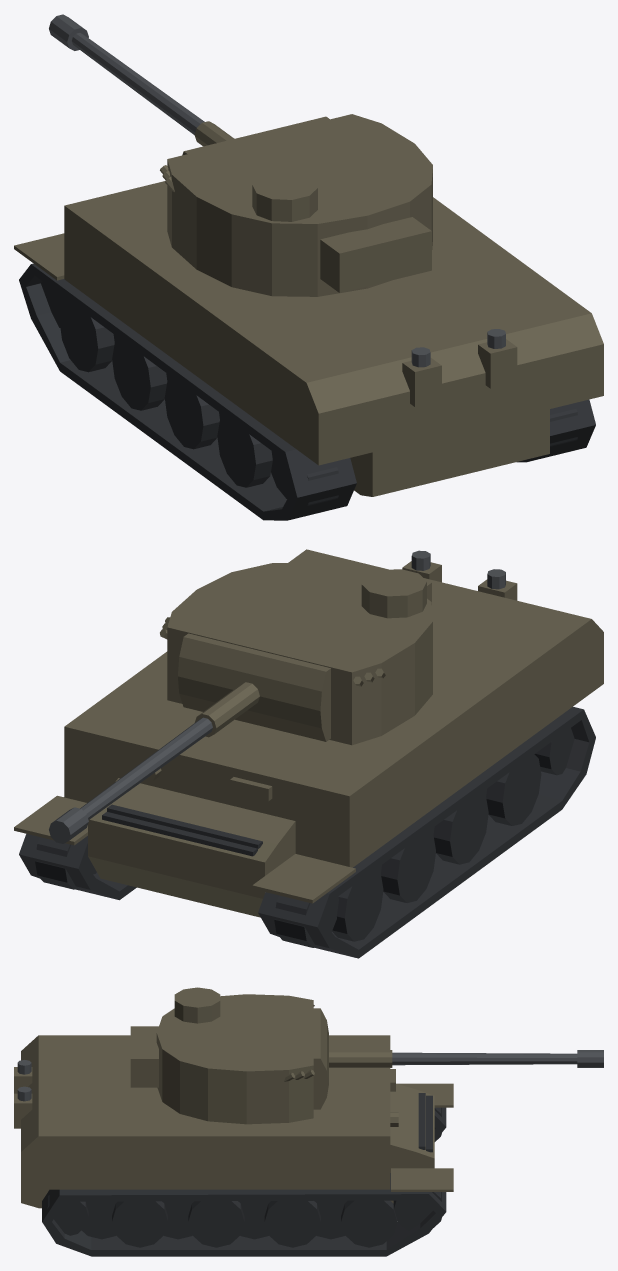
The model's file is tiger.glb.
3 renders of one model, top to bottom at view 1: azimuth 30°, elevation 25°; view 2: azimuth 150°, elevation 25°; view 3: azimuth 270°, elevation 25°, orthographic. The views are drawn at different scales.
Visible parts, largest first — view 1: TIG_Hull, TIG_Turret, TIG_Track_L, TIG_Bin, TIG_Cupola, TIG_Wheel_L0, TIG_Wheel_L2, TIG_Wheel_L4, TIG_Wheel_L6, TIG_Gun_Barrel, TIG_Track_R, TIG_ExhaustGuard_R (+3 smaller); view 2: TIG_Hull, TIG_Turret, TIG_Nose, TIG_Track_L, TIG_Mantlet, TIG_FenderF_L, TIG_Cupola, TIG_Wheel_L2, TIG_Wheel_L4, TIG_Wheel_L6, TIG_Track_R, TIG_Gun_Barrel (+10 smaller); view 3: TIG_Hull, TIG_Turret, TIG_Track_R, TIG_Nose, TIG_Gun_Barrel, TIG_Wheel_R0, TIG_Wheel_R2, TIG_Wheel_R4, TIG_Wheel_R6, TIG_Bin, TIG_FenderF_R, TIG_Cupola (+13 smaller).
Part boxes in pixels (x1,y1,x2,y2): TIG_Hull: (64, 181, 603, 496); TIG_Turret: (167, 114, 432, 296); TIG_Track_L: (19, 263, 356, 520); TIG_Bin: (320, 217, 431, 292); TIG_Cupola: (252, 172, 317, 221); TIG_Wheel_L0: (59, 300, 114, 372); TIG_Wheel_L2: (112, 338, 167, 410); TIG_Wheel_L4: (164, 377, 219, 449); TIG_Wheel_L6: (217, 416, 272, 487); TIG_Gun_Barrel: (72, 33, 204, 134); TIG_Track_R: (516, 399, 595, 462); TIG_ExhaustGuard_R: (478, 339, 517, 388); TIG_Hull: (64, 549, 603, 867); TIG_Turret: (167, 562, 432, 745); TIG_Nose: (88, 778, 295, 917); TIG_Track_L: (258, 707, 595, 958); TIG_Mantlet: (177, 633, 330, 741); TIG_FenderF_L: (252, 854, 355, 903); TIG_Cupola: (361, 569, 426, 618); TIG_Wheel_L2: (381, 831, 435, 902); TIG_Wheel_L4: (433, 792, 488, 864); TIG_Wheel_L6: (486, 754, 541, 825); TIG_Track_R: (19, 834, 136, 900); TIG_Gun_Barrel: (80, 717, 212, 819); TIG_Hull: (21, 1035, 390, 1208); TIG_Turret: (156, 994, 313, 1124); TIG_Track_R: (42, 1173, 446, 1256); TIG_Nose: (390, 1083, 434, 1203); TIG_Gun_Barrel: (392, 1052, 577, 1065); TIG_Wheel_R0: (341, 1200, 397, 1247); TIG_Wheel_R2: (264, 1201, 320, 1247); TIG_Wheel_R4: (188, 1201, 244, 1247); TIG_Wheel_R6: (112, 1201, 167, 1247); TIG_Bin: (130, 1026, 158, 1087); TIG_FenderF_R: (391, 1168, 453, 1191); TIG_Cupola: (174, 987, 220, 1023).
Bounding box in the file's own units: 3.56 × 2.93 × 8.39.
